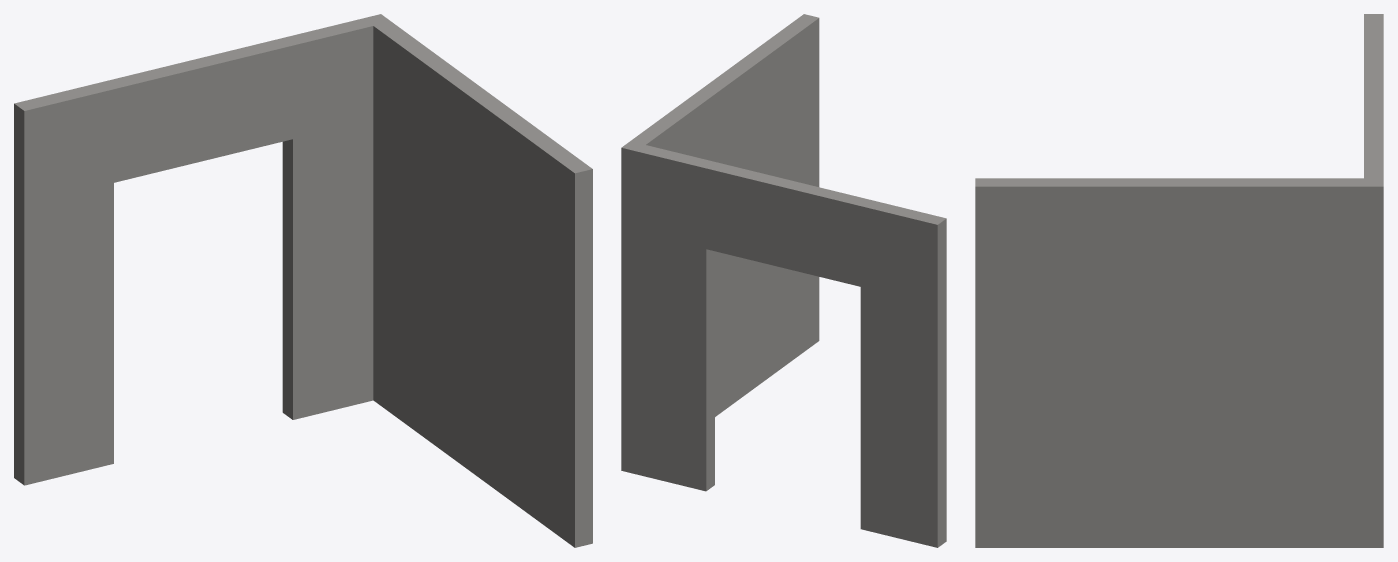
File: Wal_2_Corner_B.fbx
3 views of the same model, side by side, from view 1: azimuth 30°, elevation 25°; view 2: azimuth 150°, elevation 25°; view 3: azimuth 270°, elevation 25° (orthographic). The views are drawn at different scales.
Parts seen in each view (by area): view 1: polySurface12; view 2: polySurface12; view 3: polySurface12.
Boxes of the visible parts, x1,y1,x2,y2 form: polySurface12: (14,14,592,547); polySurface12: (621,14,946,547); polySurface12: (975,14,1383,547).
Bounding box in the file's own units: 4.1 × 4 × 4.1.
Materials: 1 (1 with a texture image).
